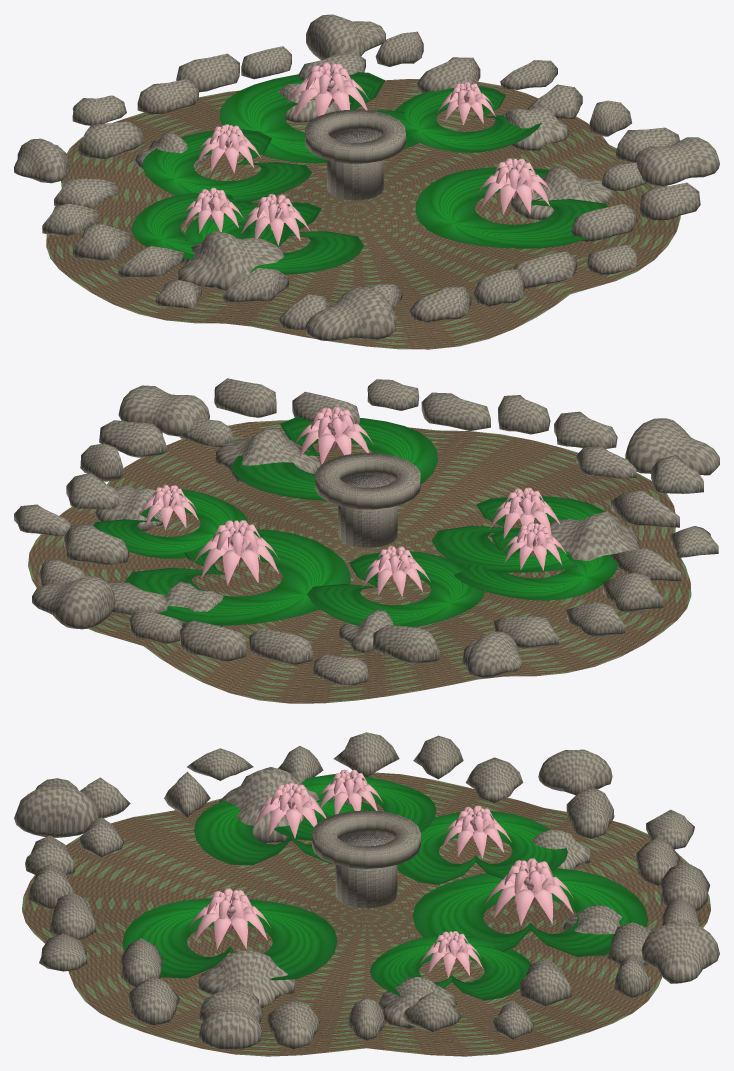
Rendered from koi-pond-scape.glb.
3 views of the same model, one above another, from view 1: azimuth 30°, elevation 25°; view 2: azimuth 150°, elevation 25°; view 3: azimuth 270°, elevation 25° (orthographic). The views are drawn at different scales.
Parts seen in each view (by area): view 1: substrate, bank-stones, pond-rocks, lily-pad-1, fountain, lily-pad-4, lily-pad-3, lily-pad-5, lily-pad-2, lily-pad-6, lotus-bloom-3, lotus-bloom-1 (+4 smaller); view 2: substrate, bank-stones, pond-rocks, lily-pad-3, fountain, lily-pad-4, lily-pad-1, lily-pad-2, lily-pad-6, lily-pad-5, lotus-bloom-3, lotus-bloom-1 (+4 smaller); view 3: substrate, bank-stones, pond-rocks, lily-pad-3, lily-pad-1, fountain, lily-pad-4, lily-pad-5, lily-pad-2, lily-pad-6, lotus-bloom-3, lotus-bloom-1 (+4 smaller).
Boxes of the visible parts, bbox=[...] form: substrate: bbox=[46, 79, 680, 349]; bank-stones: bbox=[14, 14, 719, 340]; pond-rocks: bbox=[135, 83, 612, 290]; lily-pad-1: bbox=[415, 167, 608, 248]; fountain: bbox=[305, 109, 405, 200]; lily-pad-4: bbox=[142, 129, 312, 203]; lily-pad-3: bbox=[219, 72, 418, 163]; lily-pad-5: bbox=[395, 86, 541, 152]; lily-pad-2: bbox=[185, 202, 364, 274]; lily-pad-6: bbox=[132, 193, 291, 259]; lotus-bloom-3: bbox=[286, 62, 368, 118]; lotus-bloom-1: bbox=[475, 158, 552, 214]; substrate: bbox=[28, 420, 691, 703]; bank-stones: bbox=[14, 378, 719, 685]; pond-rocks: bbox=[94, 427, 641, 652]; lily-pad-3: bbox=[124, 529, 350, 625]; fountain: bbox=[315, 453, 420, 547]; lily-pad-4: bbox=[307, 551, 484, 627]; lily-pad-1: bbox=[231, 417, 437, 500]; lily-pad-2: bbox=[432, 496, 604, 572]; lily-pad-6: bbox=[454, 527, 618, 600]; lily-pad-5: bbox=[93, 488, 247, 558]; lotus-bloom-3: bbox=[192, 520, 279, 585]; lotus-bloom-1: bbox=[293, 406, 373, 464]; substrate: bbox=[22, 772, 710, 1056]; bank-stones: bbox=[14, 732, 719, 1050]; pond-rocks: bbox=[198, 767, 621, 1028]; lily-pad-3: bbox=[412, 868, 647, 956]; lily-pad-1: bbox=[122, 898, 337, 980]; fountain: bbox=[312, 810, 420, 908]; lily-pad-4: bbox=[397, 811, 567, 884]; lily-pad-5: bbox=[370, 935, 531, 1000]; lily-pad-2: bbox=[194, 797, 375, 865]; lily-pad-6: bbox=[274, 775, 436, 840]; lotus-bloom-3: bbox=[484, 858, 573, 925]; lotus-bloom-1: bbox=[188, 888, 270, 949].
Size of the model in its own units: 2.11 by 0.2978 by 2.07.
Materials: 4 (4 with a texture image).
